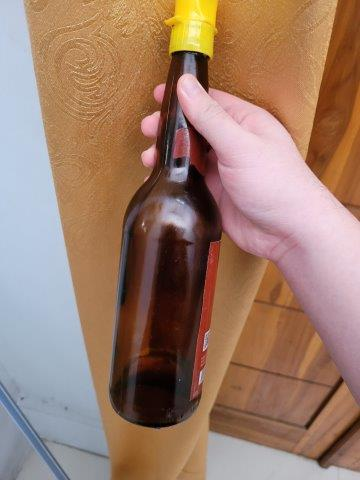botolkaca: (108, 1, 225, 428)
